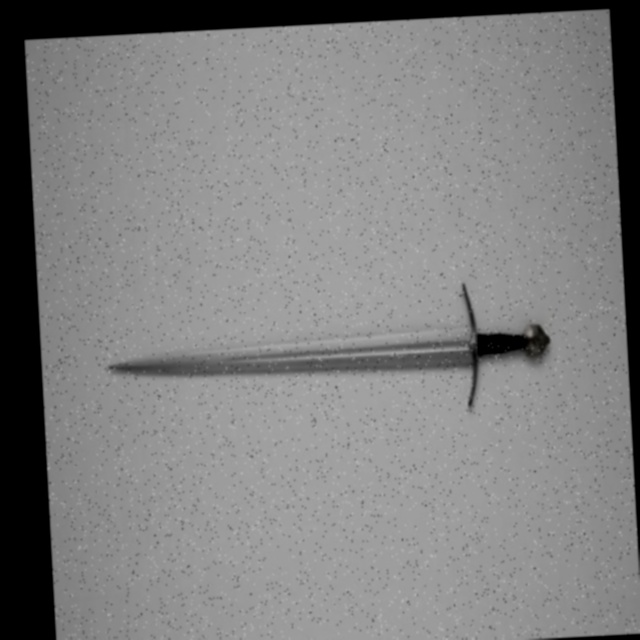Sharp-Object: (93, 307, 561, 395)
